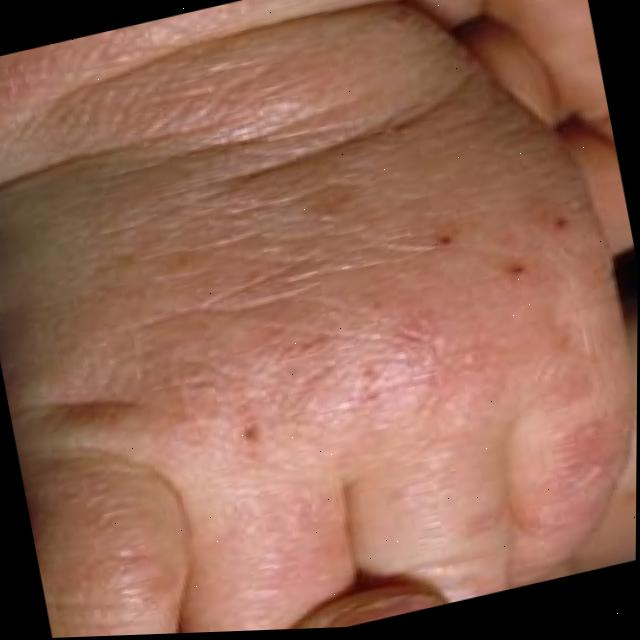Eczema: (52, 121, 612, 605)
